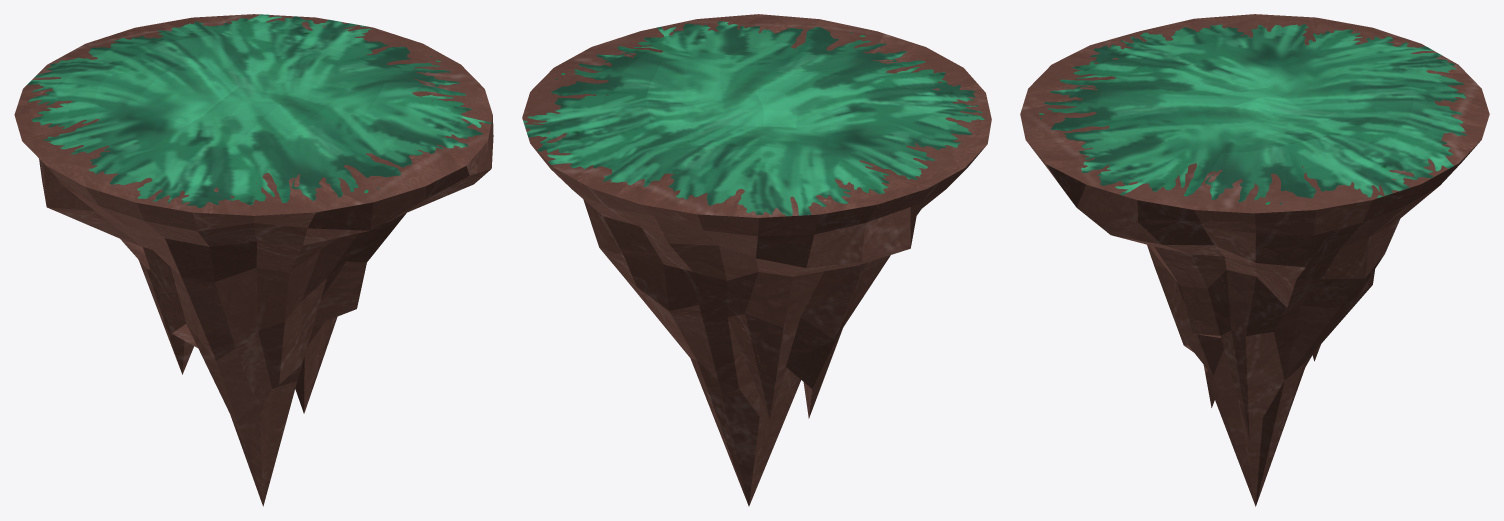
The model's file is Island.fbx.
The picture shows the model from 3 angles, left to right: view 1: azimuth 30°, elevation 25°; view 2: azimuth 150°, elevation 25°; view 3: azimuth 270°, elevation 25°; orthographic projection.
Visible parts, largest first — view 1: Island; view 2: Island; view 3: Island.
Part boxes in pixels (box(x1,y1,x2,y2)): Island: box(14, 14, 493, 506); Island: box(522, 14, 991, 506); Island: box(1020, 14, 1489, 506).
Bounding box in the file's own units: 5989 × 5679 × 5967.
